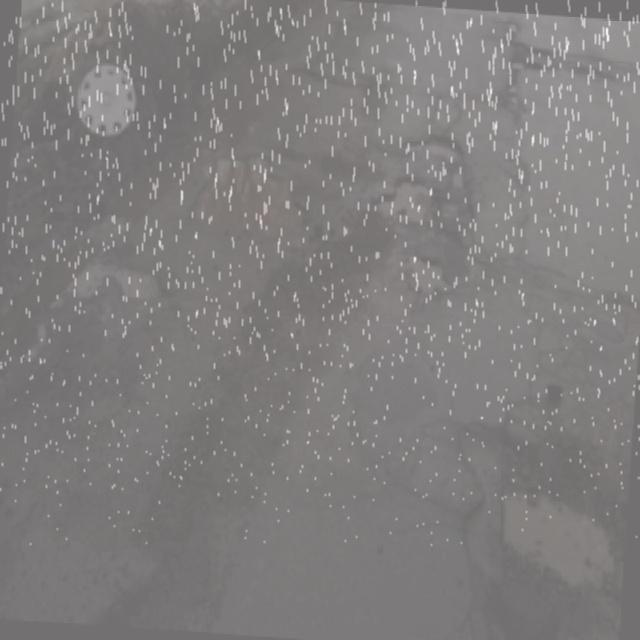Pothole: (458, 421, 640, 640), (333, 106, 477, 322), (41, 228, 167, 319)
